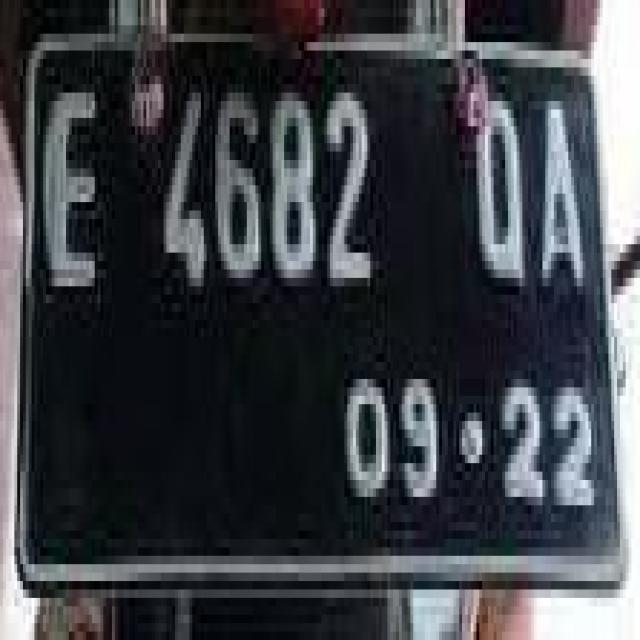2: (317, 51, 380, 320)
4: (160, 72, 210, 300)
6: (208, 63, 263, 299)
8: (262, 51, 318, 320)
A: (535, 92, 587, 312)
E: (38, 76, 104, 312)
Q: (464, 89, 536, 300)
